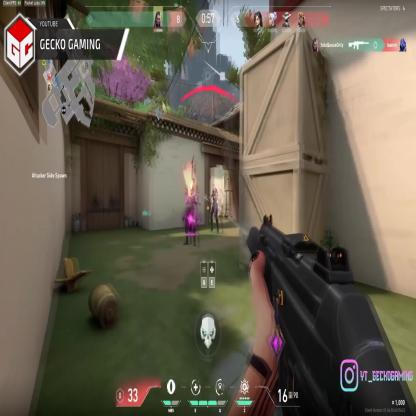enemy: (209, 186, 220, 236)
enemy_head: (213, 185, 216, 192)
